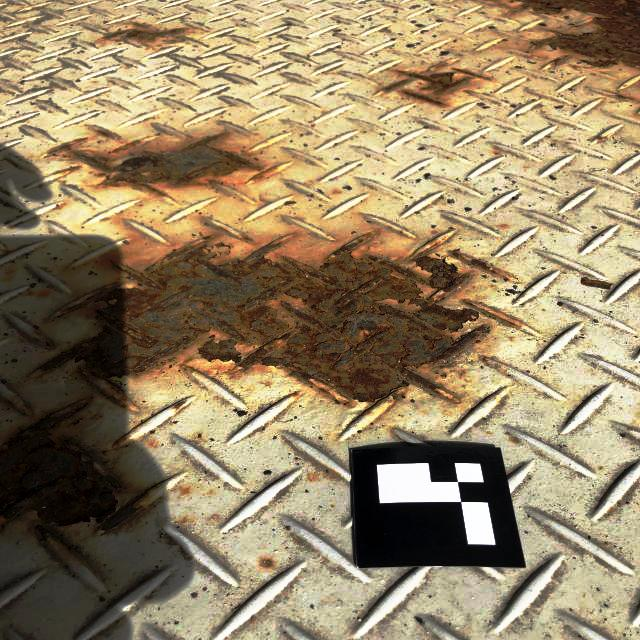Corrosion: (34, 224, 523, 418), (0, 399, 147, 562), (46, 129, 278, 199), (484, 0, 640, 72), (382, 62, 494, 109), (93, 22, 206, 50), (5, 398, 31, 414), (615, 93, 638, 102), (323, 469, 340, 479), (26, 290, 49, 297), (260, 558, 273, 568), (172, 400, 186, 409), (595, 133, 611, 140), (181, 486, 192, 495), (115, 437, 129, 444), (480, 356, 493, 362), (45, 339, 53, 348), (511, 435, 519, 442), (293, 392, 299, 396), (35, 337, 40, 341)
